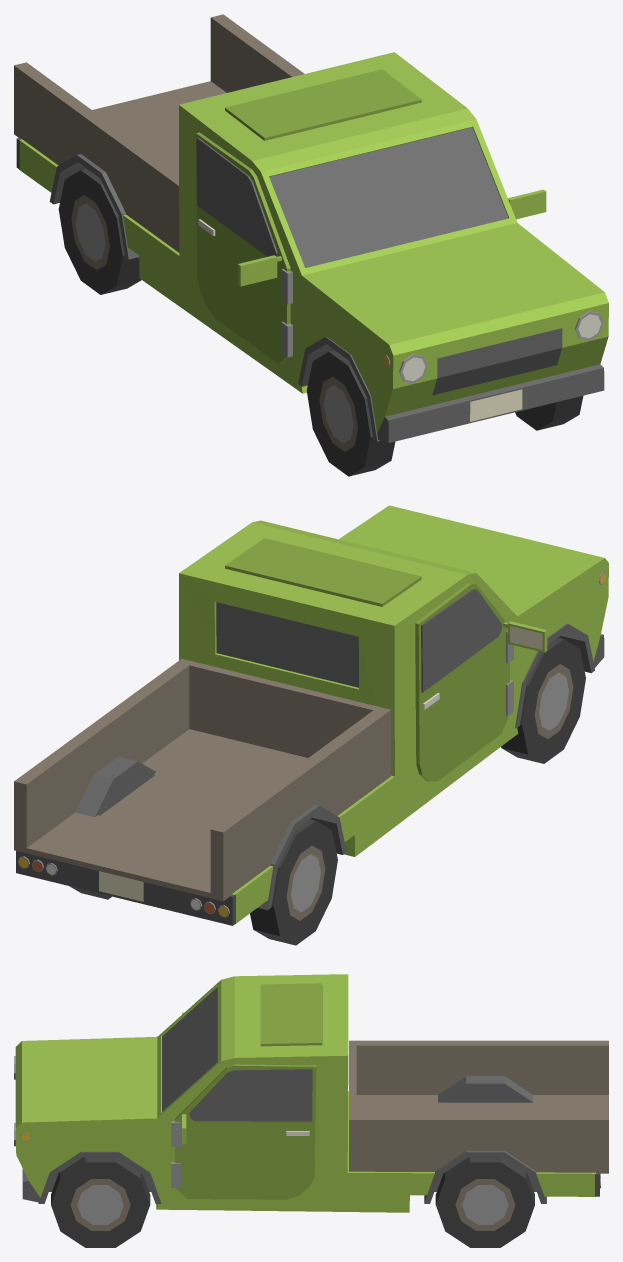
File: kar4_2.fbx
3 views of the same model, one above another, from view 1: azimuth 30°, elevation 25°; view 2: azimuth 150°, elevation 25°; view 3: azimuth 270°, elevation 25° (orthographic). The views are drawn at different scales.
Parts seen in each view (by area): view 1: Boole_4, Cylinder_6, Cylinder_3, Cylinder_7; view 2: Boole_4, Cylinder_3, Cylinder_6; view 3: Boole_4, Cylinder_8, Cylinder_7.
Boxes of the visible parts, left/top/right/bottom form: Boole_4: left=14, top=14, right=608, bottom=442; Cylinder_6: left=306, top=350, right=395, bottom=476; Cylinder_3: left=58, top=169, right=141, bottom=294; Cylinder_7: left=515, top=396, right=583, bottom=430; Boole_4: left=14, top=505, right=608, bottom=925; Cylinder_3: left=250, top=819, right=337, bottom=945; Cylinder_6: left=501, top=638, right=585, bottom=763; Boole_4: left=14, top=974, right=608, bottom=1212; Cylinder_8: left=435, top=1157, right=534, bottom=1247; Cylinder_7: left=51, top=1157, right=150, bottom=1247.
Size of the model in its own units: 213 by 166 by 462.
